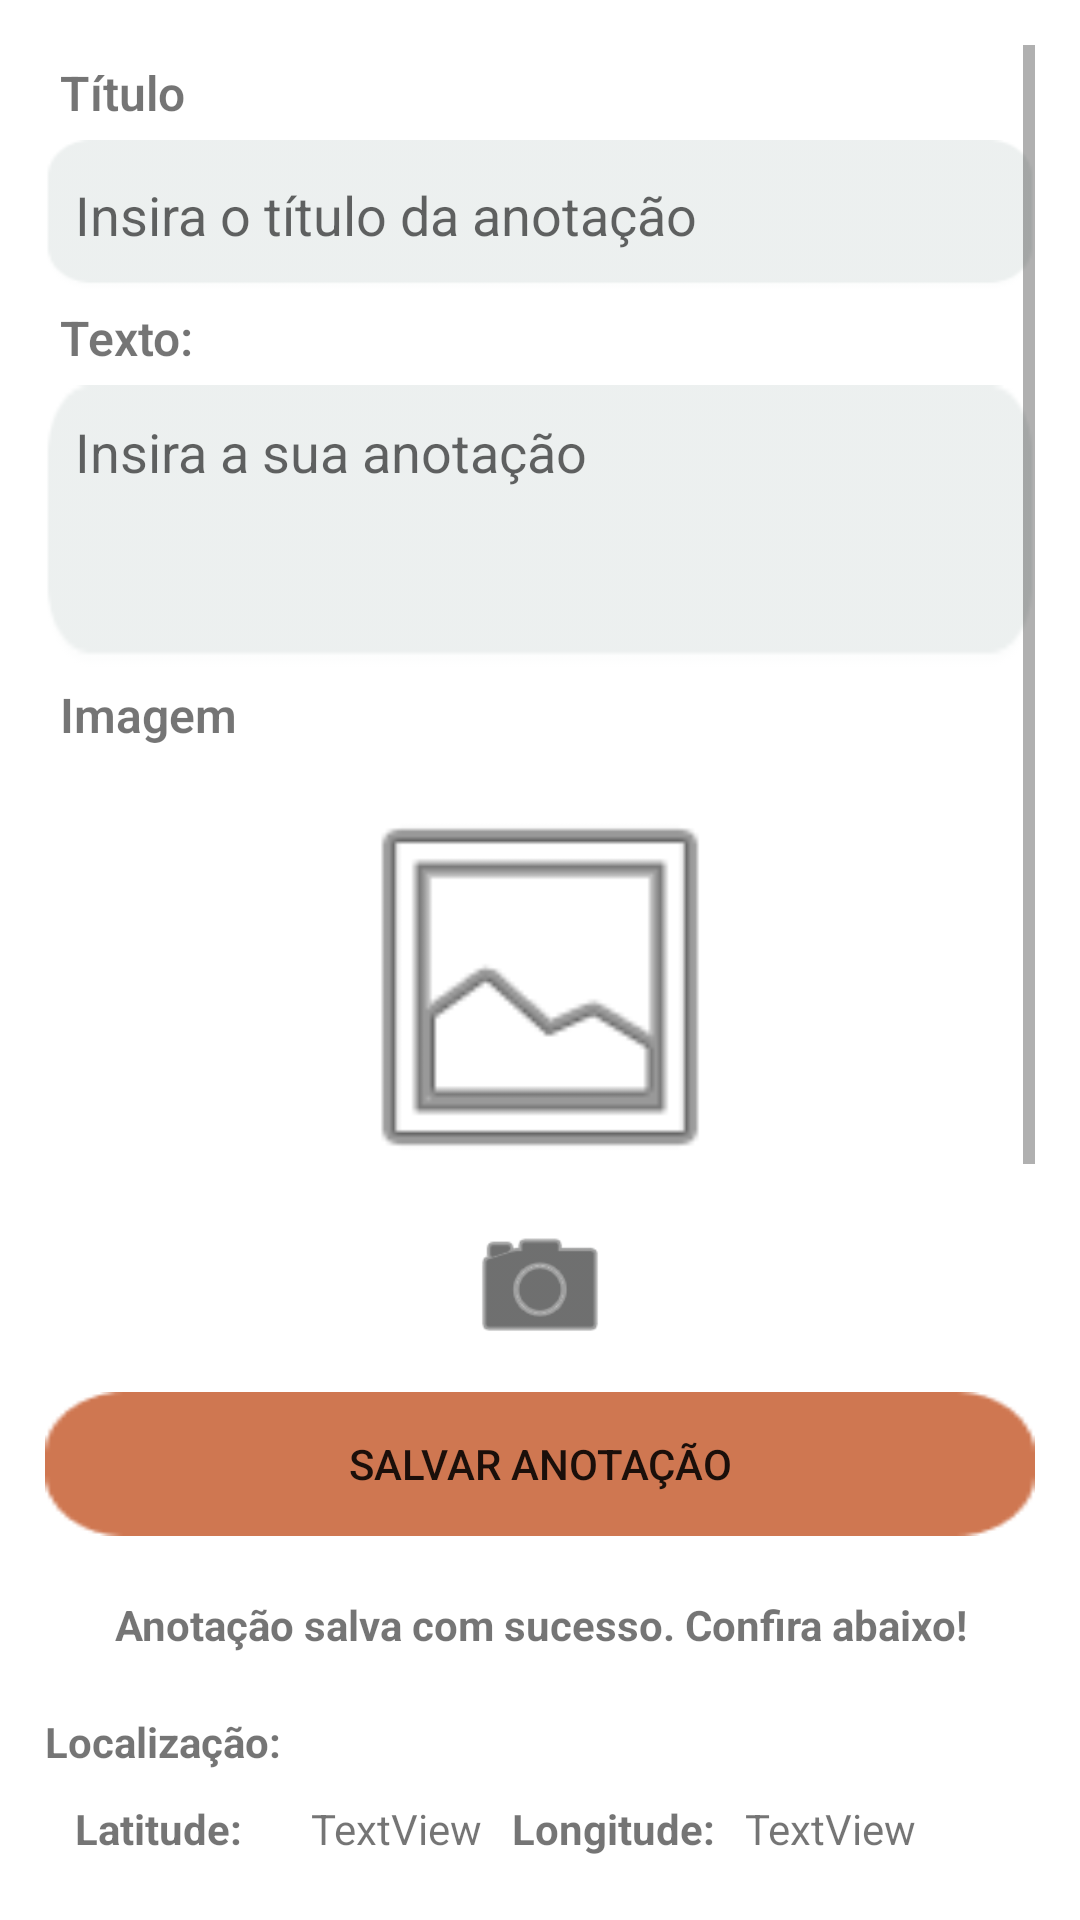

Screen size 1080 x 1920. Icon name, then its center in pixels as [x,y]:
icone camera: [540,1284]
